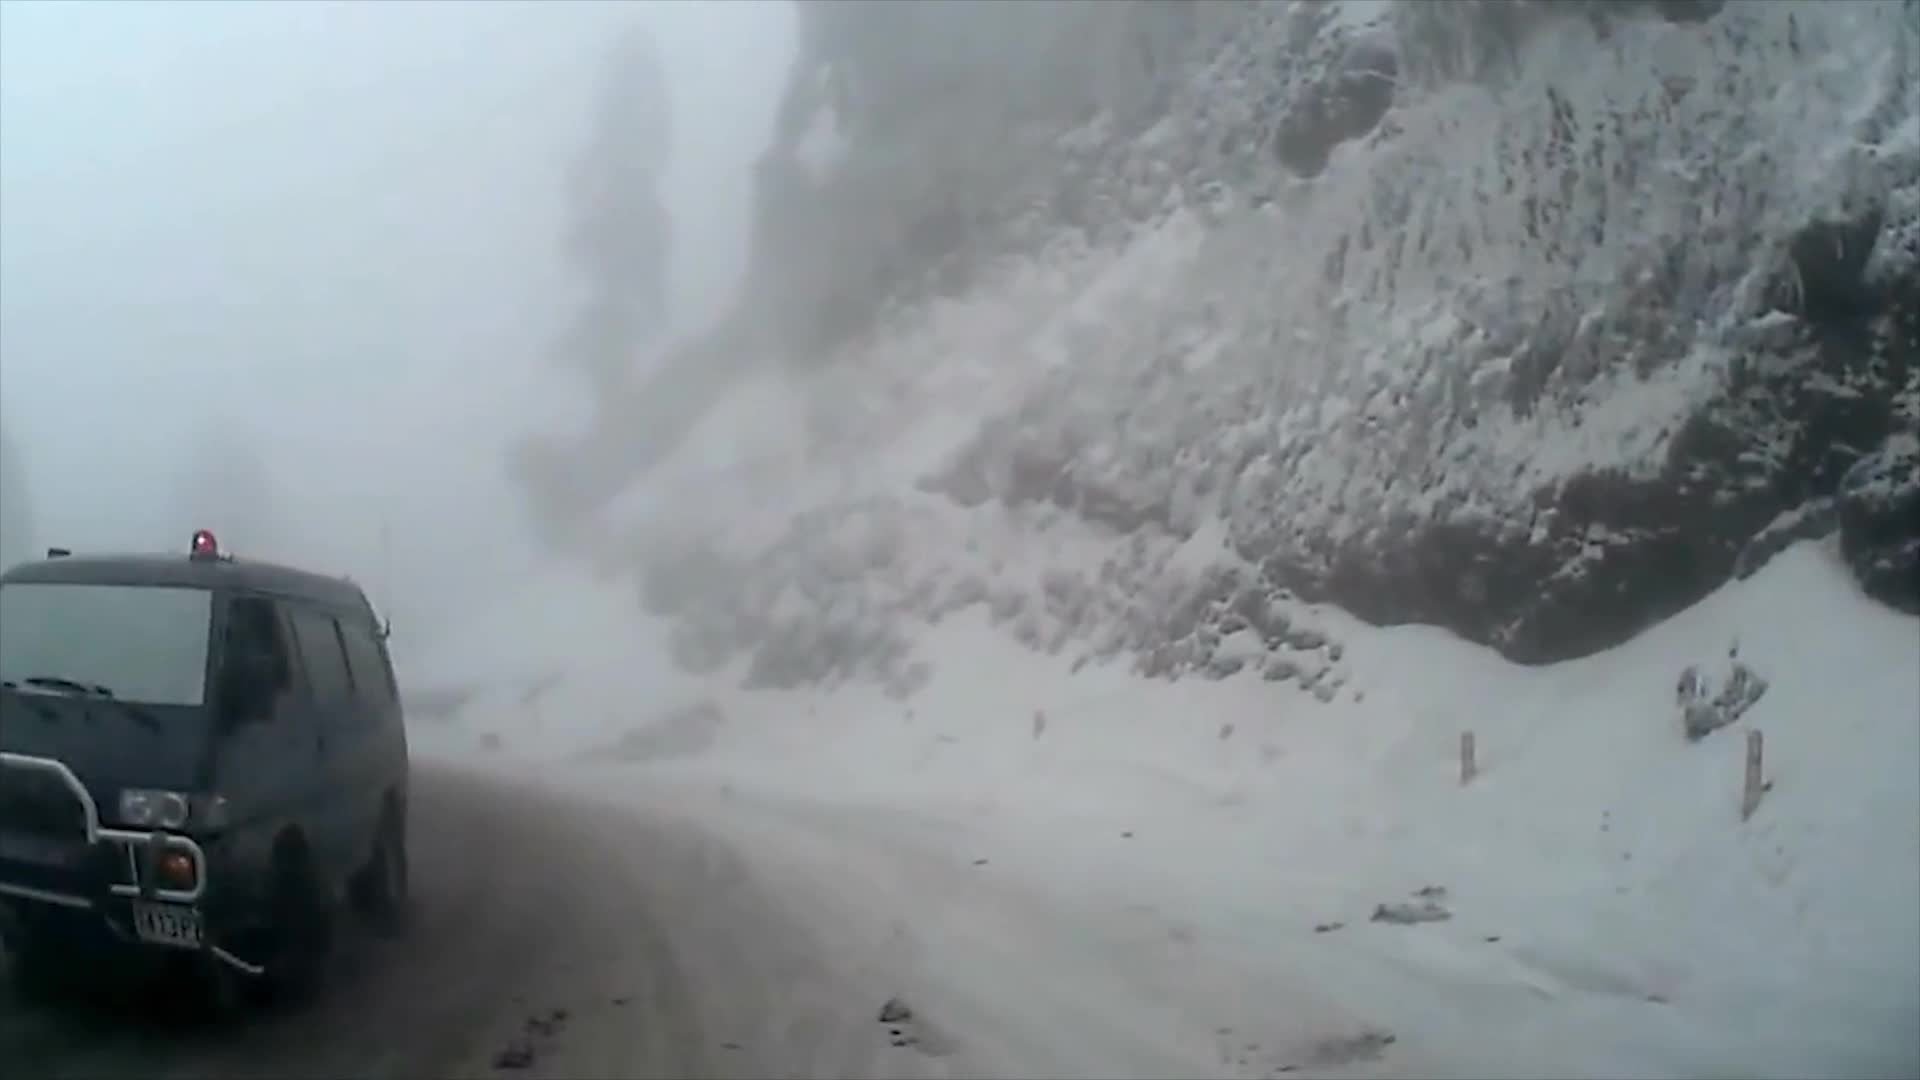vehicle: (0, 529, 411, 1021)
